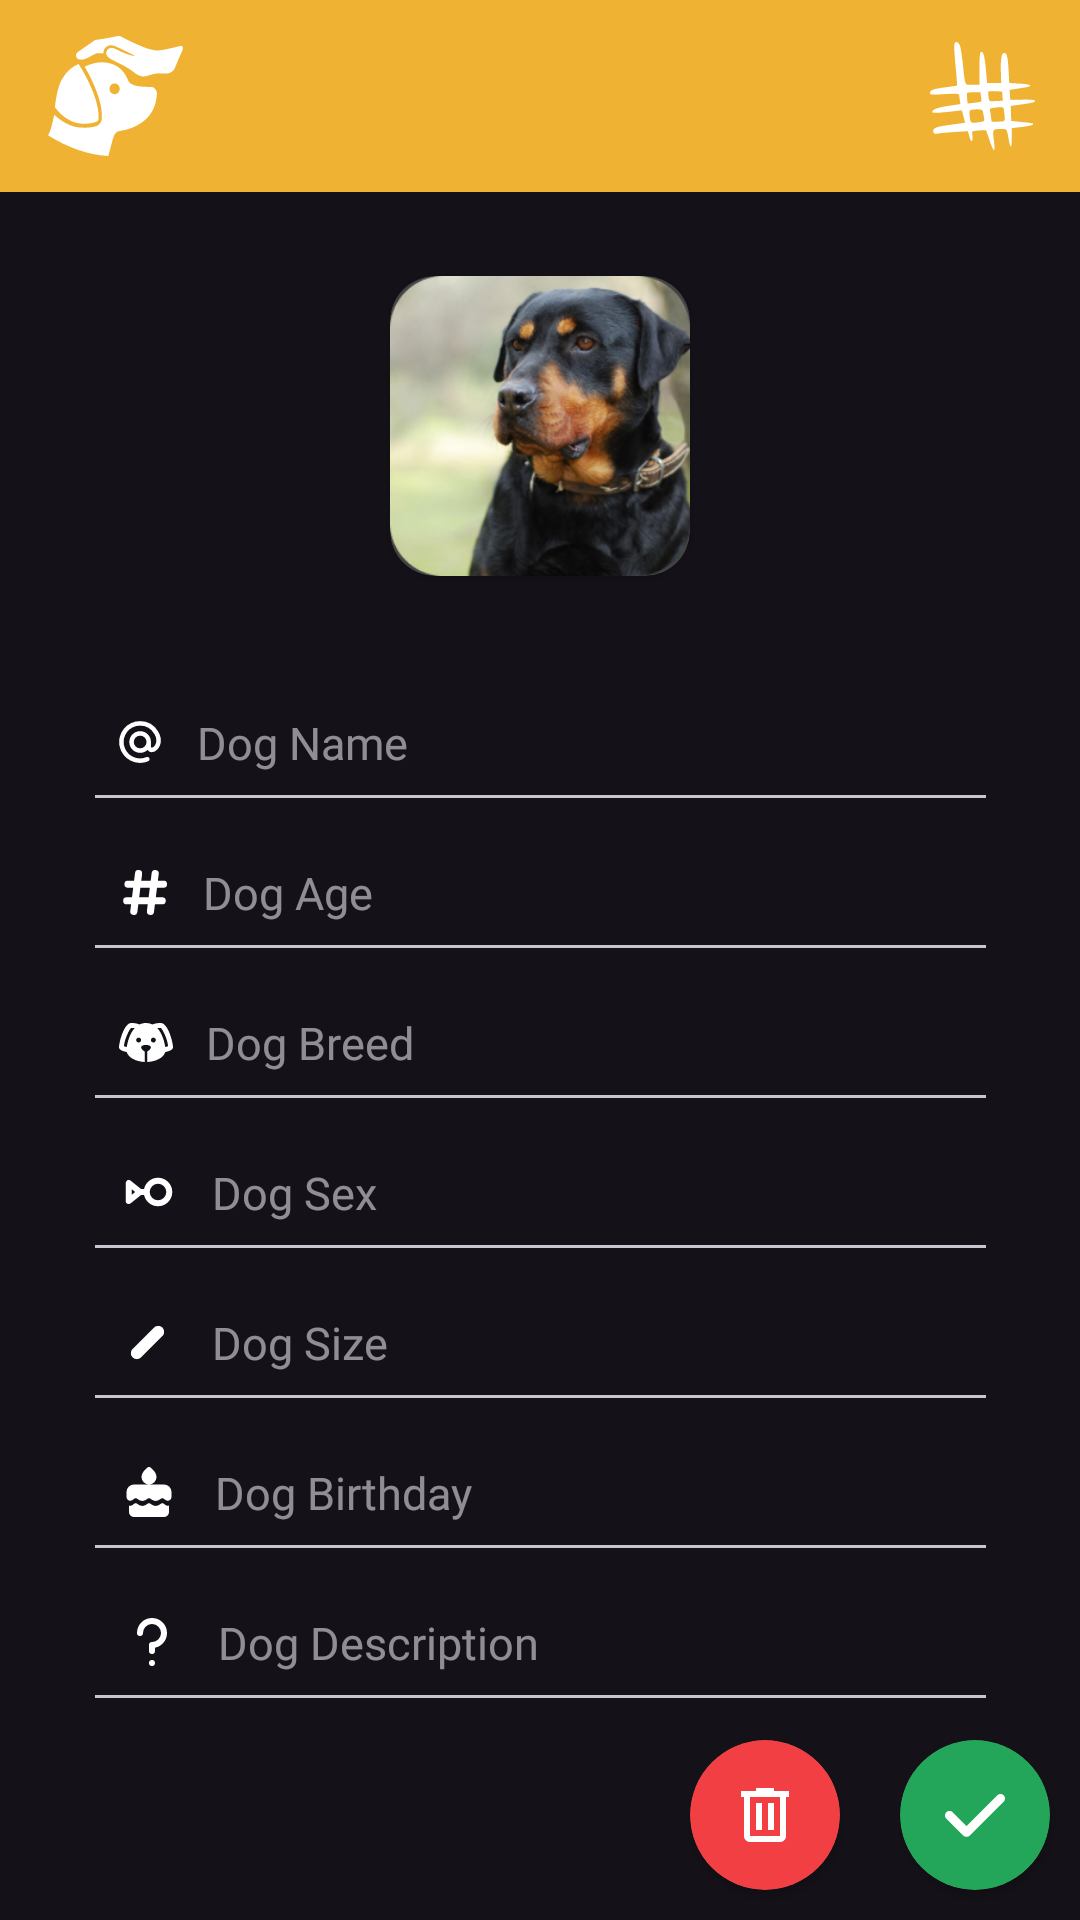

Where icons sit on this 1080 × 1920 app screen, as (x1=x1, y1=y1, x2=x2, y2=y2):
crosshatch: (x1=930, y1=42, x2=1035, y2=150)
